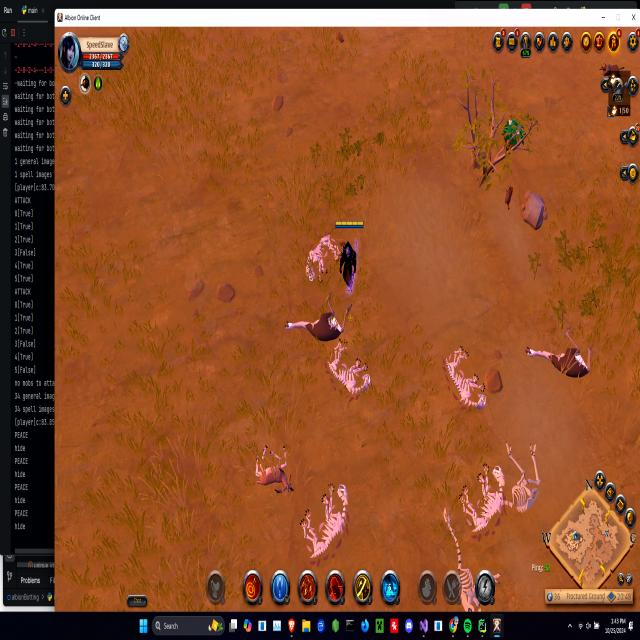hide: (502, 114, 523, 151)
mob: (524, 334, 596, 381), (283, 300, 352, 348), (252, 440, 296, 499)
red: (332, 217, 364, 294)
